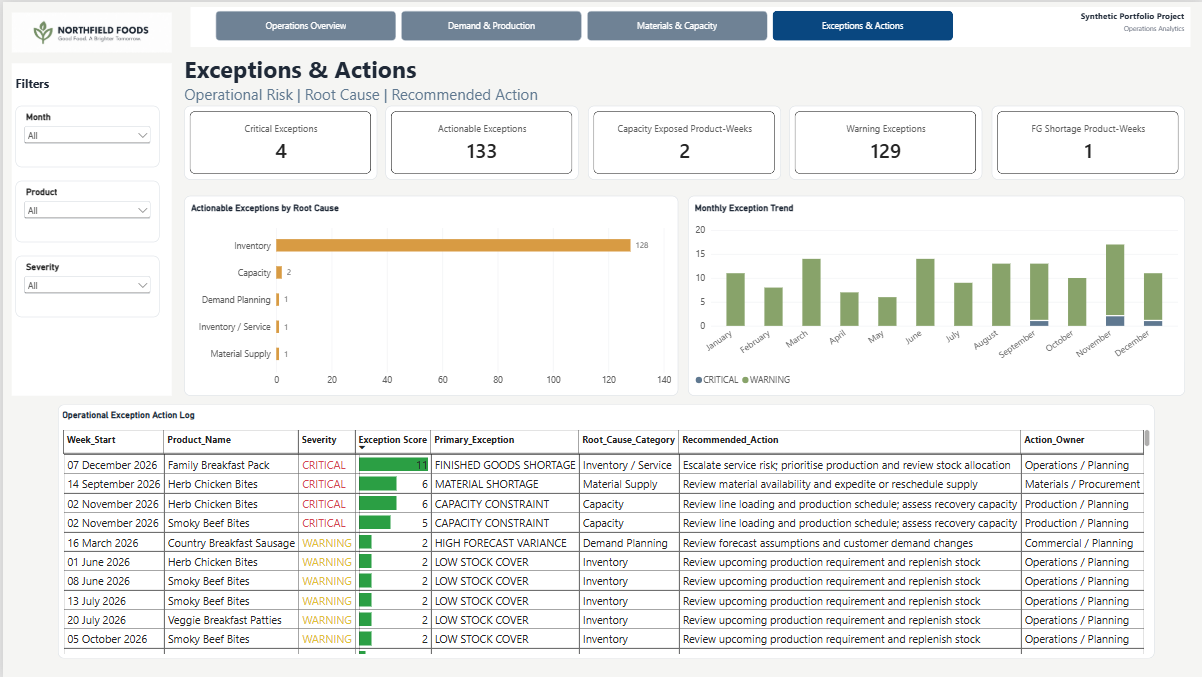

The page's visual inventory and layout, read from the dashboard file:
{"tool":"powerbi","page":{"name":"Exceptions & Actions","canvas":[1920,1080],"ordinal":3},"visuals":[{"type":"shape","box":[14,98,256,532],"z":0},{"type":"shape","box":[300,8,1600,64],"z":1000},{"type":"slicer","fields":{"Values":["dim_Week.Month"]},"box":[20,165,230,98],"z":2000},{"type":"slicer","fields":{"Values":["dim_Product.Product_Name"]},"box":[20,285,230,98],"z":3000},{"type":"slicer","fields":{"Values":["fact_Exceptions.Severity"]},"box":[20,405,230,98],"z":4000},{"type":"cardVisual","fields":{"Data":["_Measures.Critical Exceptions"]},"box":[290,165,308.8,118],"z":5000},{"type":"cardVisual","fields":{"Data":["_Measures.Warning Exceptions"]},"box":[1258.4,165,308.8,118],"z":6000},{"type":"cardVisual","fields":{"Data":["_Measures.Actionable Exceptions"]},"box":[612.8,165,308.8,118],"z":7000},{"type":"cardVisual","fields":{"Data":["_Measures.FG Shortage Product-Weeks"]},"box":[1581.2,165,308.8,118],"z":8000},{"type":"cardVisual","fields":{"Data":["_Measures.Capacity Exposed Product-Weeks"]},"box":[935.6,165,308.8,118],"z":9000},{"type":"clusteredBarChart","title":"Actionable Exceptions by Root Cause","fields":{"Category":["fact_Exceptions.Root_Cause_Category"],"Y":["_Measures.Actionable Exceptions"]},"box":[290,310,790,320],"z":10000},{"type":"columnChart","title":"Monthly Exception Trend","fields":{"Category":["dim_Week.Month"],"Series":["fact_Exceptions.Severity"],"Y":["_Measures.Exception Count"]},"box":[1095,310,795,320],"z":11000},{"type":"tableEx","title":"Operational Exception Action Log","fields":{"Values":["fact_Exceptions.Week_Start","dim_Product.Product_Name","fact_Exceptions.Severity","Sum(fact_Exceptions.Exception_Score)","fact_Exceptions.Primary_Exception","fact_Exceptions.Root_Cause_Category","fact_Exceptions.Recommended_Action","fact_Exceptions.Action_Owner"]},"box":[88,644,1754,406],"z":12000},{"type":"textbox","box":[290,82,1400,84],"z":13000},{"type":"textbox","box":[20,118,230,38],"z":14000},{"type":"textbox","box":[1600,12,290,52],"z":16000},{"type":"pageNavigator","box":[340,14,1180,48],"z":17000},{"type":"image","box":[14,0,256,98],"z":17001}]}

Visuals, with their boxes in screenshot pixels (x1, y1, x2, y2), scaled from the page's 1920x1080 canvas onto the 1202x677 screenshot:
shape: (left=9, top=61, right=169, bottom=395)
shape: (left=188, top=5, right=1189, bottom=45)
slicer - dim_Week.Month: (left=13, top=103, right=157, bottom=165)
slicer - dim_Product.Product_Name: (left=13, top=179, right=157, bottom=240)
slicer - fact_Exceptions.Severity: (left=13, top=254, right=157, bottom=315)
cardVisual - _Measures.Critical Exceptions: (left=182, top=103, right=375, bottom=177)
cardVisual - _Measures.Warning Exceptions: (left=788, top=103, right=981, bottom=177)
cardVisual - _Measures.Actionable Exceptions: (left=384, top=103, right=577, bottom=177)
cardVisual - _Measures.FG Shortage Product-Weeks: (left=990, top=103, right=1183, bottom=177)
cardVisual - _Measures.Capacity Exposed Product-Weeks: (left=586, top=103, right=779, bottom=177)
"Actionable Exceptions by Root Cause" clusteredBarChart: (left=182, top=194, right=676, bottom=395)
"Monthly Exception Trend" columnChart: (left=686, top=194, right=1183, bottom=395)
"Operational Exception Action Log" tableEx: (left=55, top=404, right=1153, bottom=658)
textbox: (left=182, top=51, right=1058, bottom=104)
textbox: (left=13, top=74, right=157, bottom=98)
textbox: (left=1002, top=8, right=1183, bottom=40)
pageNavigator: (left=213, top=9, right=952, bottom=39)
image: (left=9, top=0, right=169, bottom=61)
